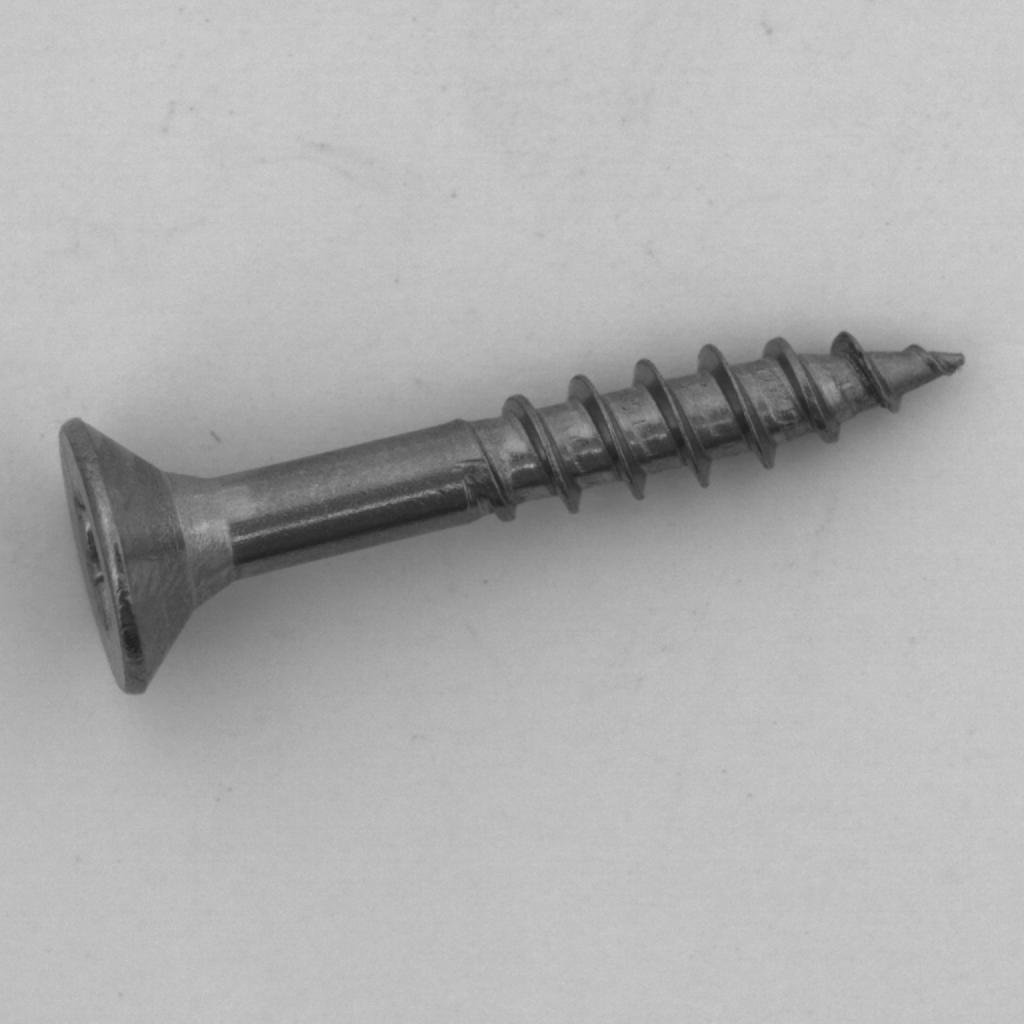good: (47, 309, 977, 707)
